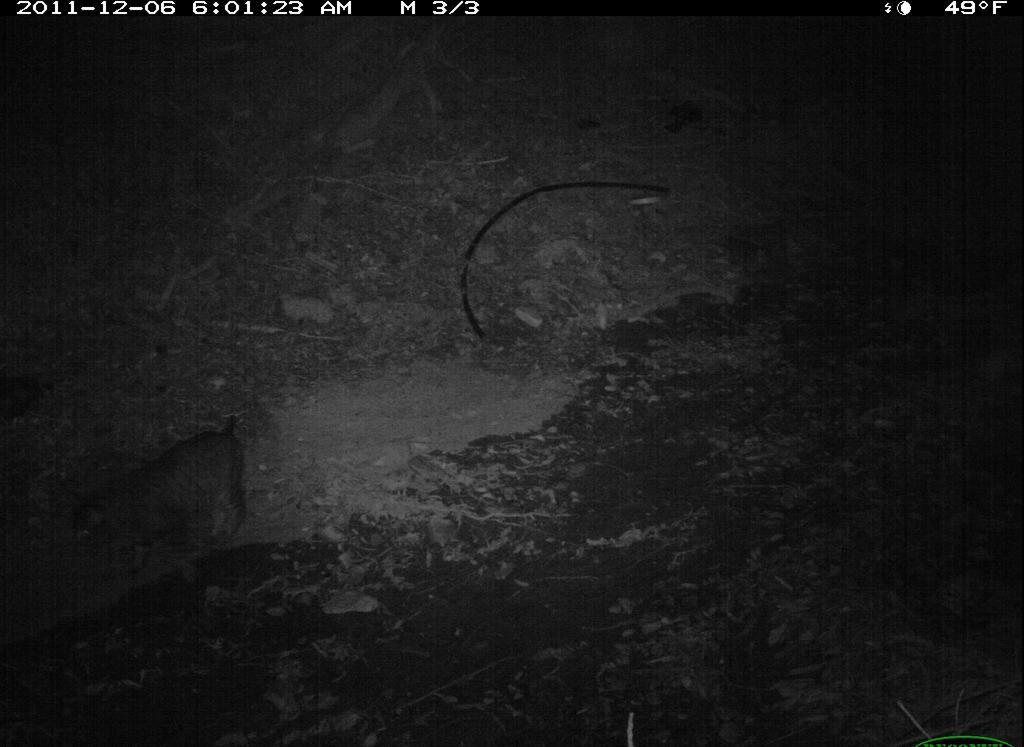cat: (62, 411, 254, 584)
